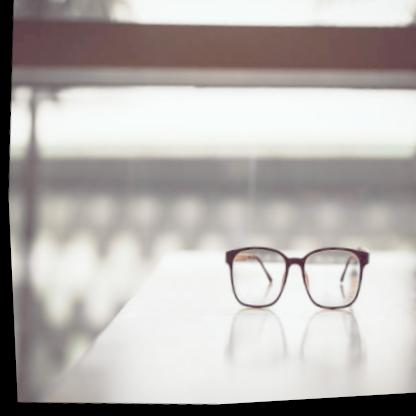Spectacles: (217, 238, 371, 323)
